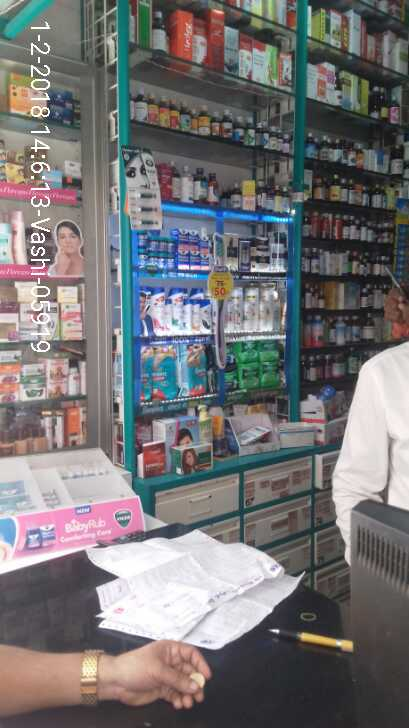beauty: (138, 282, 217, 337), (221, 229, 295, 274)
pharmacy: (135, 226, 213, 270), (222, 339, 282, 389), (178, 337, 209, 394), (150, 337, 178, 399), (138, 343, 154, 400)
